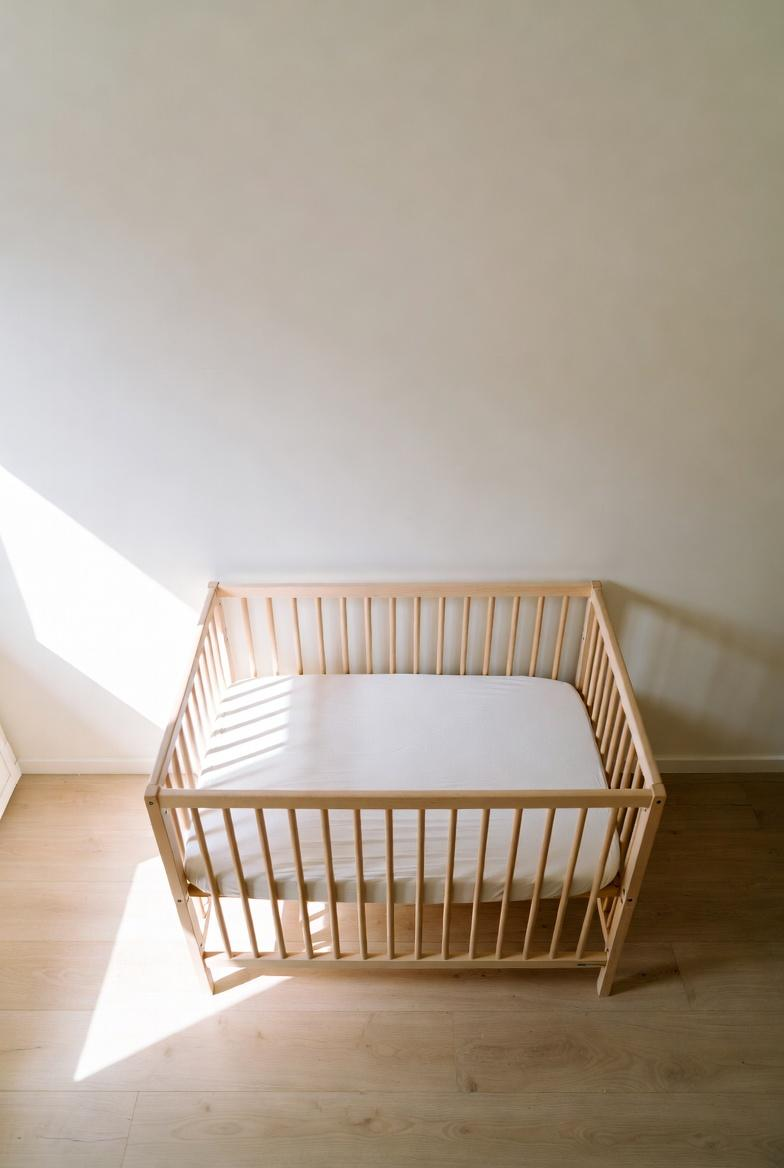crib: (110, 560, 678, 1002)
